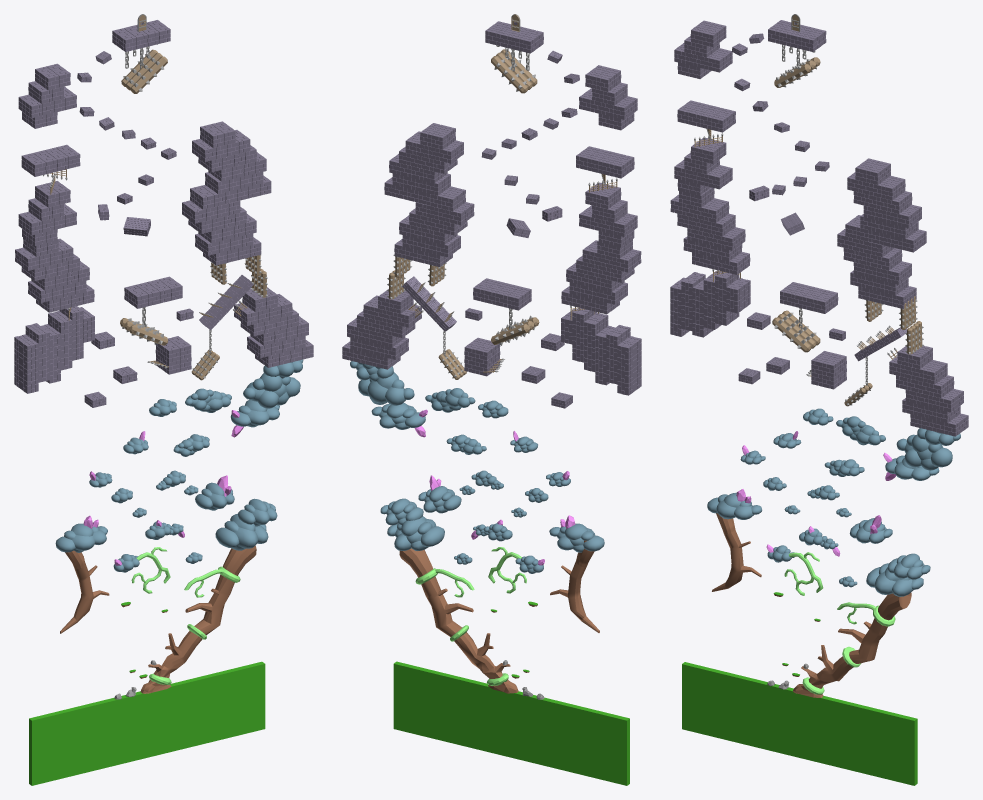
The model's file is world01_2.fbx.
3 views of the same model, side by side, from view 1: azimuth 30°, elevation 25°; view 2: azimuth 150°, elevation 25°; view 3: azimuth 330°, elevation 25° (orthographic).
Parts seen in each view (by area): view 1: polySurface2193; view 2: polySurface2193; view 3: polySurface2193.
Part boxes in pixels (x1,y1,x2,y2): polySurface2193: [14, 14, 313, 785]; polySurface2193: [342, 14, 641, 785]; polySurface2193: [670, 14, 968, 785].
Bounding box in the file's own units: 51105 × 126740 × 8278.
